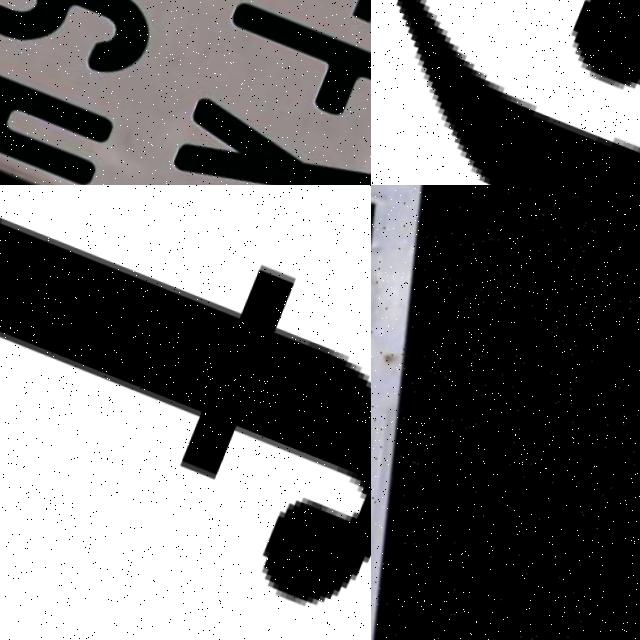2: (371, 0, 640, 185)
5: (371, 238, 405, 349)
6: (0, 0, 178, 84)
7: (371, 185, 407, 268)
F: (0, 185, 371, 621), (212, 0, 371, 154)
H: (0, 31, 133, 185)
X: (175, 85, 371, 185)
